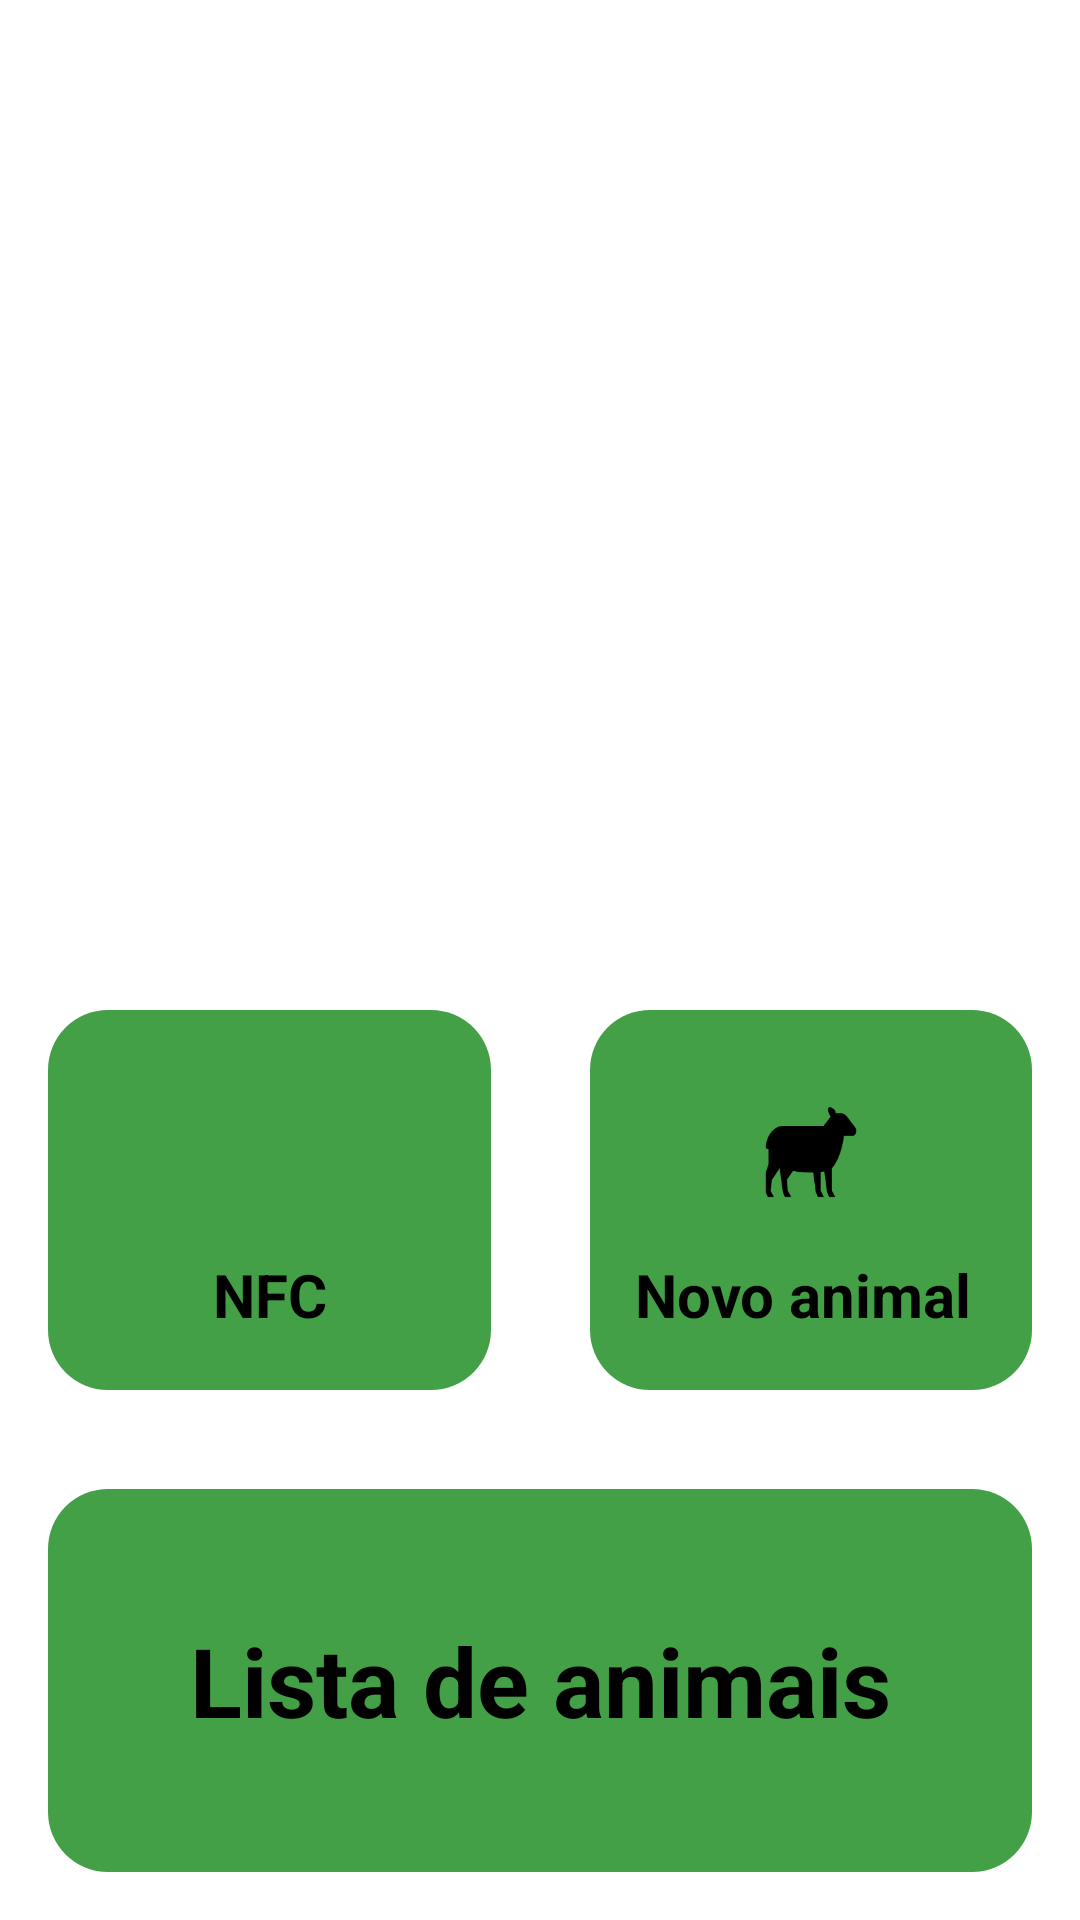

Icons on this 1080 x 1920 Android screen, each with its box as (x1, y1, x2, y2):
sheep: (765, 1107, 857, 1197)
